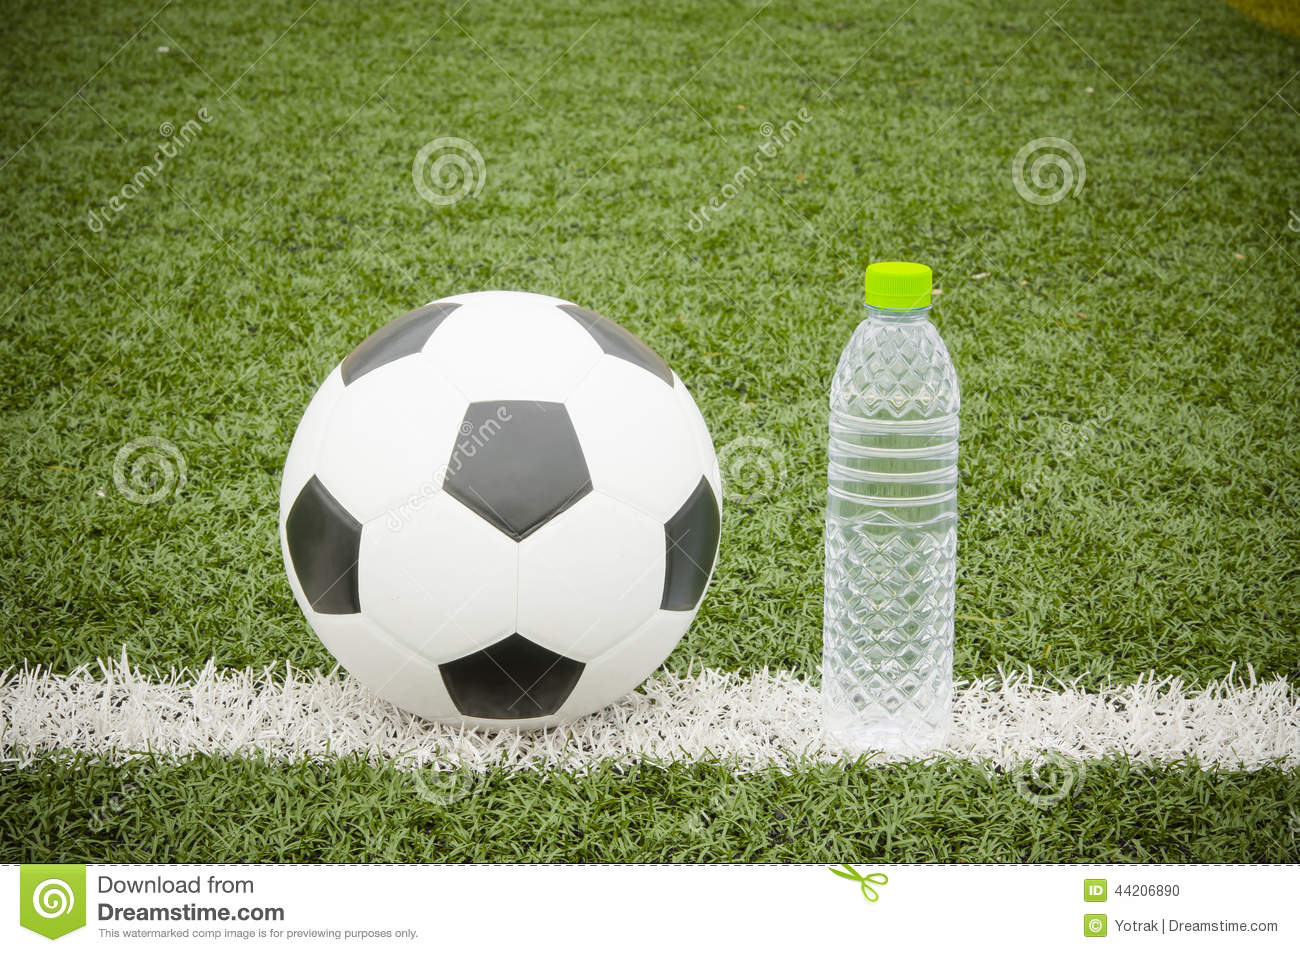plastic_bottle: (807, 253, 967, 744)
